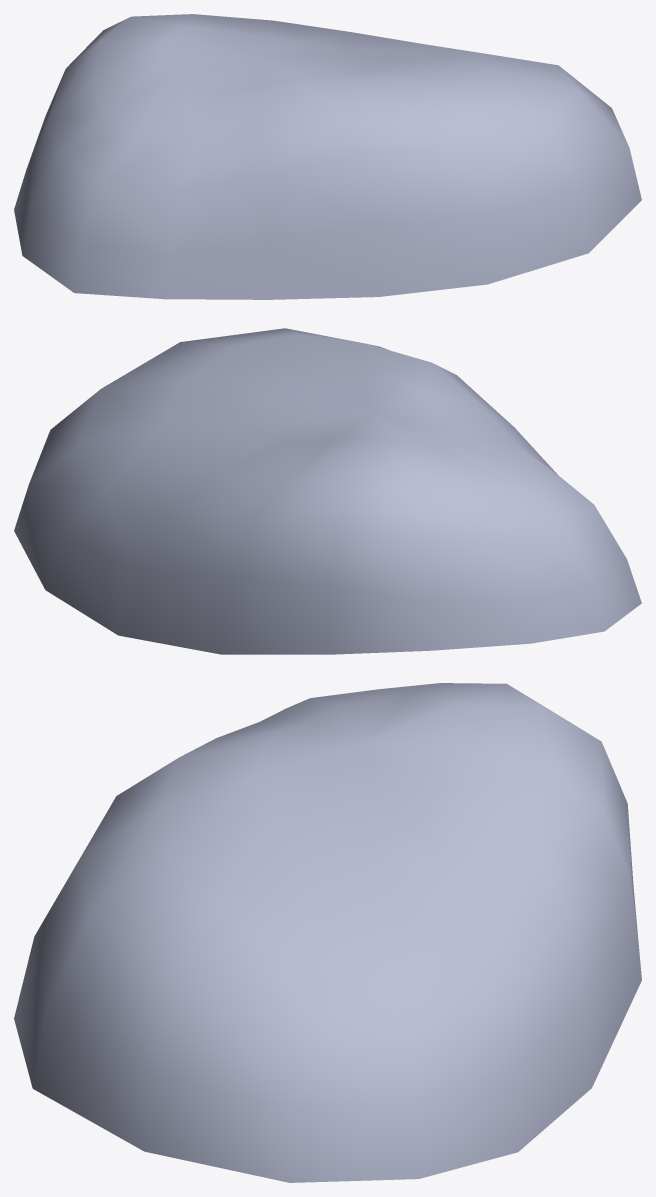
File: Rock_03.fbx
3 views of the same model, one above another, from view 1: azimuth 30°, elevation 25°; view 2: azimuth 150°, elevation 25°; view 3: azimuth 270°, elevation 25° (orthographic). The views are drawn at different scales.
Visible parts, largest first — view 1: Rock_03; view 2: Rock_03; view 3: Rock_03.
Part boxes in pixels (<box>): Rock_03: <box>14,14,641,299</box>; Rock_03: <box>14,328,641,654</box>; Rock_03: <box>14,683,641,1182</box>.
Size of the model in its own units: 29.05 by 9.53 by 20.87.
